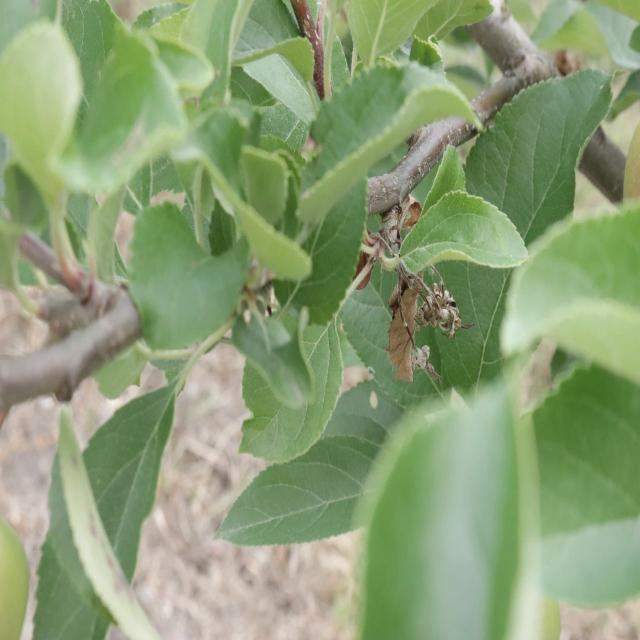-FireBlight-: (383, 279, 460, 391)
